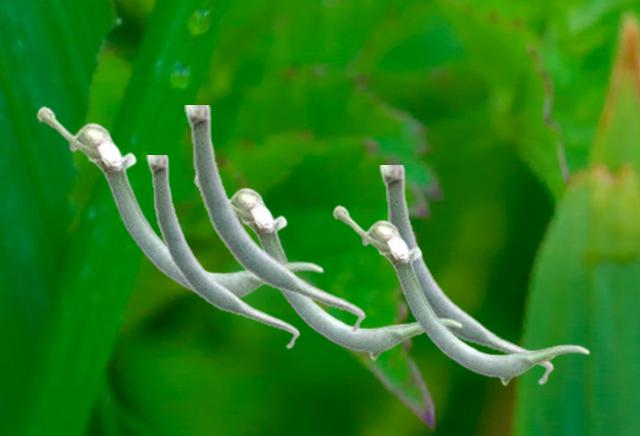french_bean: (36, 105, 323, 300), (193, 174, 462, 360), (332, 204, 589, 385), (184, 105, 365, 334), (379, 165, 553, 385), (146, 155, 299, 349)
